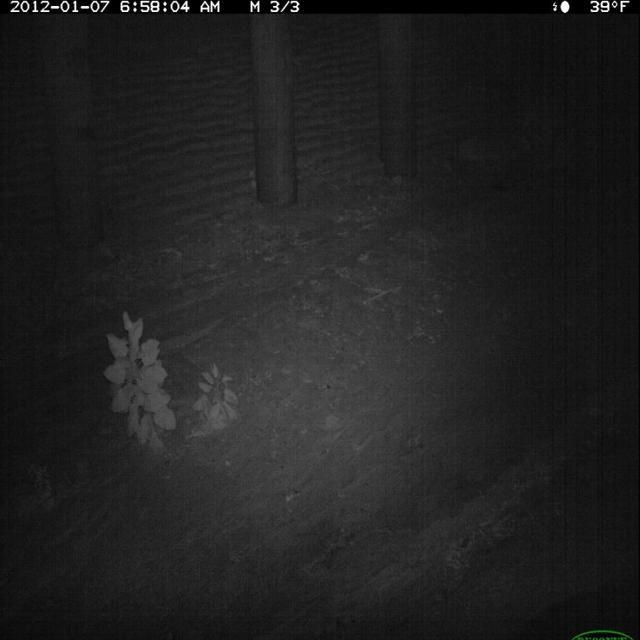skunk: (3, 2, 639, 640)
